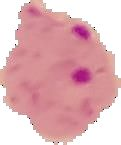parasitized: (15, 21, 117, 130), (54, 53, 121, 107), (58, 22, 111, 69)
